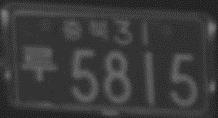1: (138, 52, 163, 104), (137, 22, 155, 43)
3: (113, 19, 134, 45)
5: (169, 53, 199, 108), (69, 49, 99, 103)
8: (103, 51, 132, 103)
루: (21, 45, 56, 83)
충북_O: (61, 18, 109, 43)
